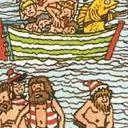waldo: (4, 67, 29, 107)
